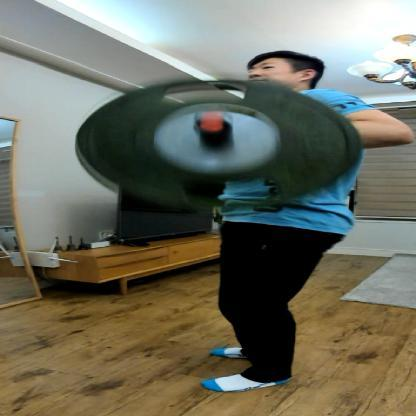Barbell: (193, 113, 241, 138)
